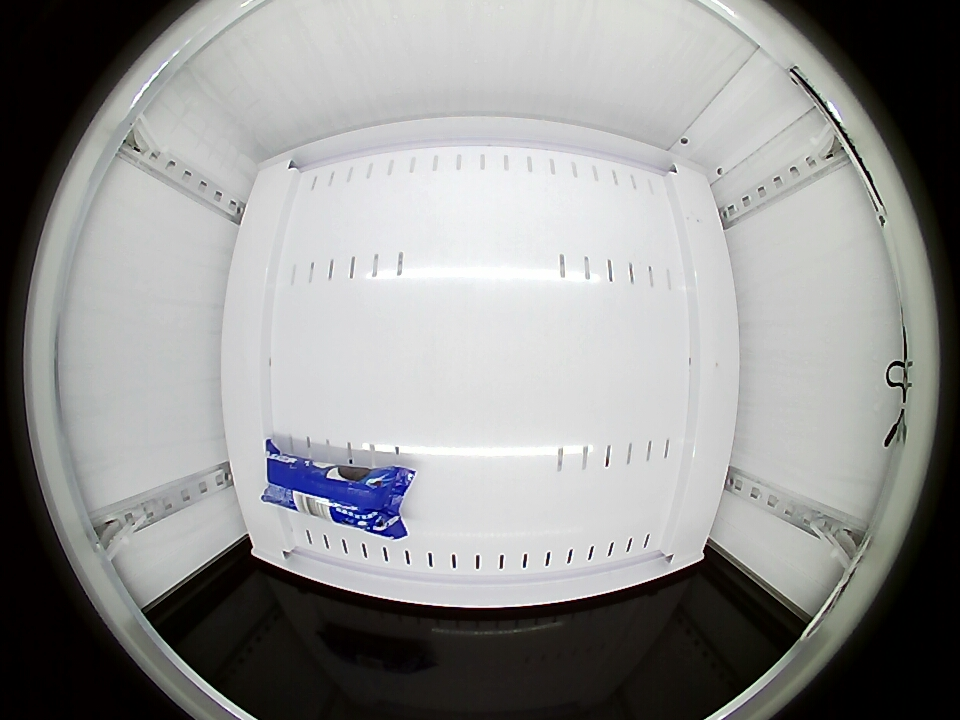aoliao: (269, 449, 408, 540)
